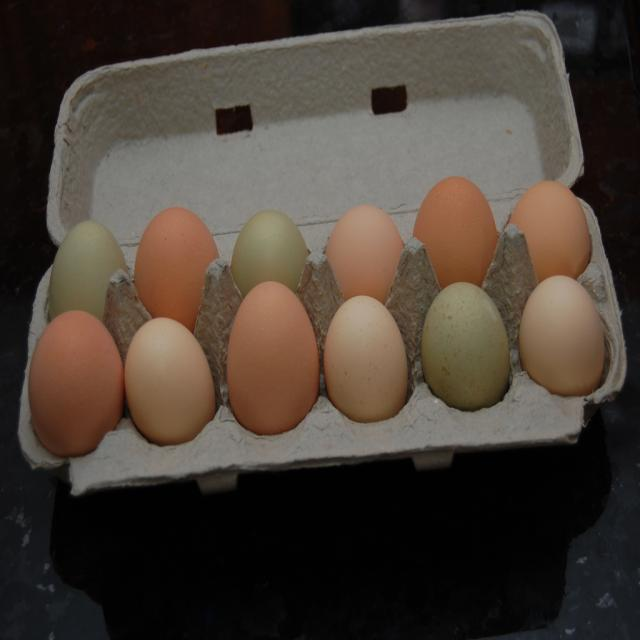Egg: (28, 176, 604, 458), (217, 278, 318, 430), (26, 311, 122, 457), (120, 310, 217, 450), (420, 278, 512, 414), (323, 292, 409, 428), (520, 273, 605, 397), (322, 201, 398, 292)
